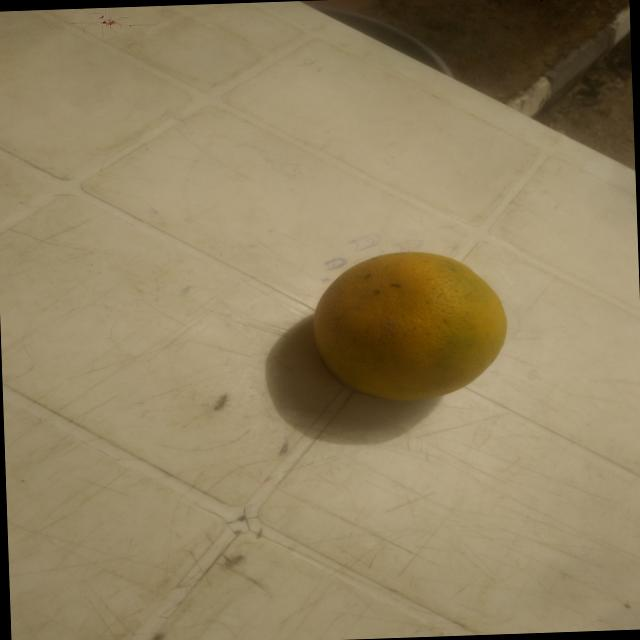Ripe orange: (266, 232, 527, 438)
